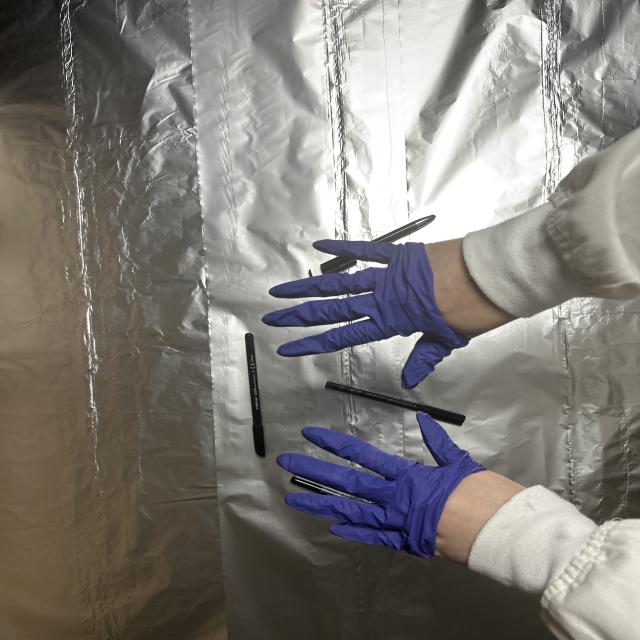glove_partial: (274, 410, 534, 573), (258, 235, 518, 390)
